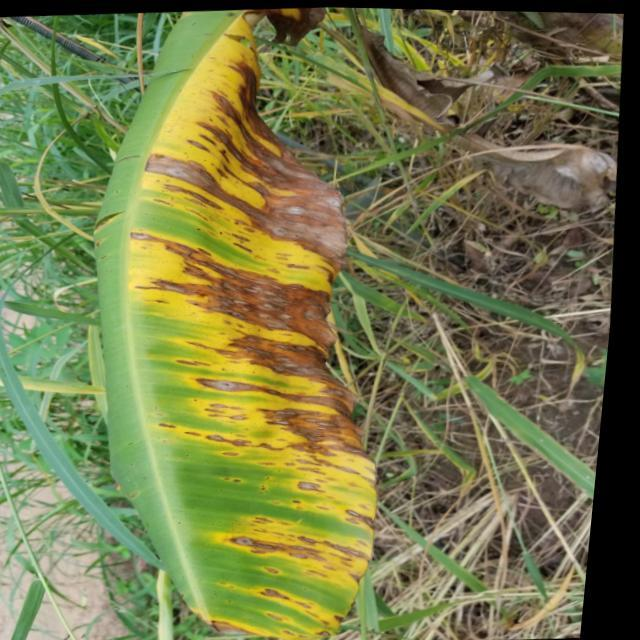Early_rust: (119, 16, 392, 640)
